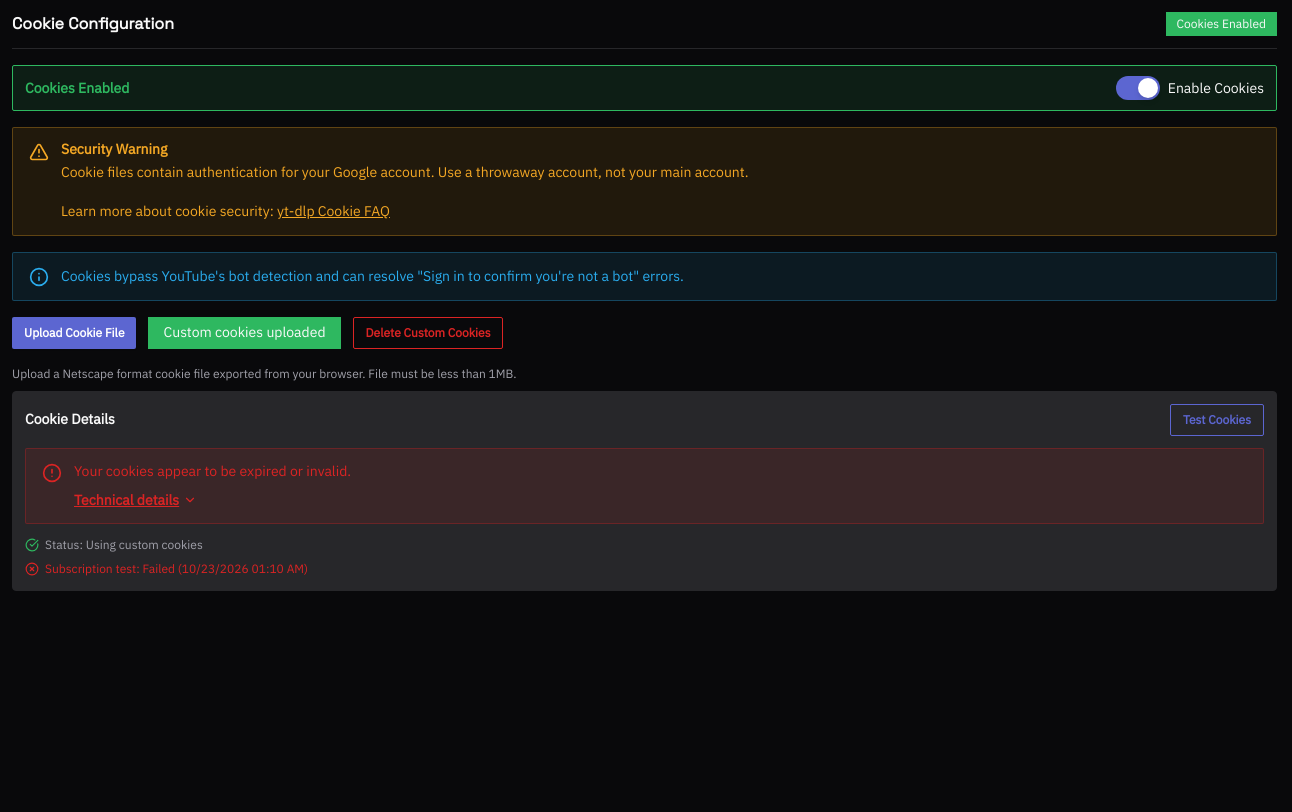
Test: CookieConfigSection › reveals technical details for a failed test only after clicking the toggle
Expected: the text "Failed to resolve url" is not shown
What coordinates should you click on to do the following:
click the button "Technical details"
I would click on:
 (136, 500)
Its box is [74,490,197,510].
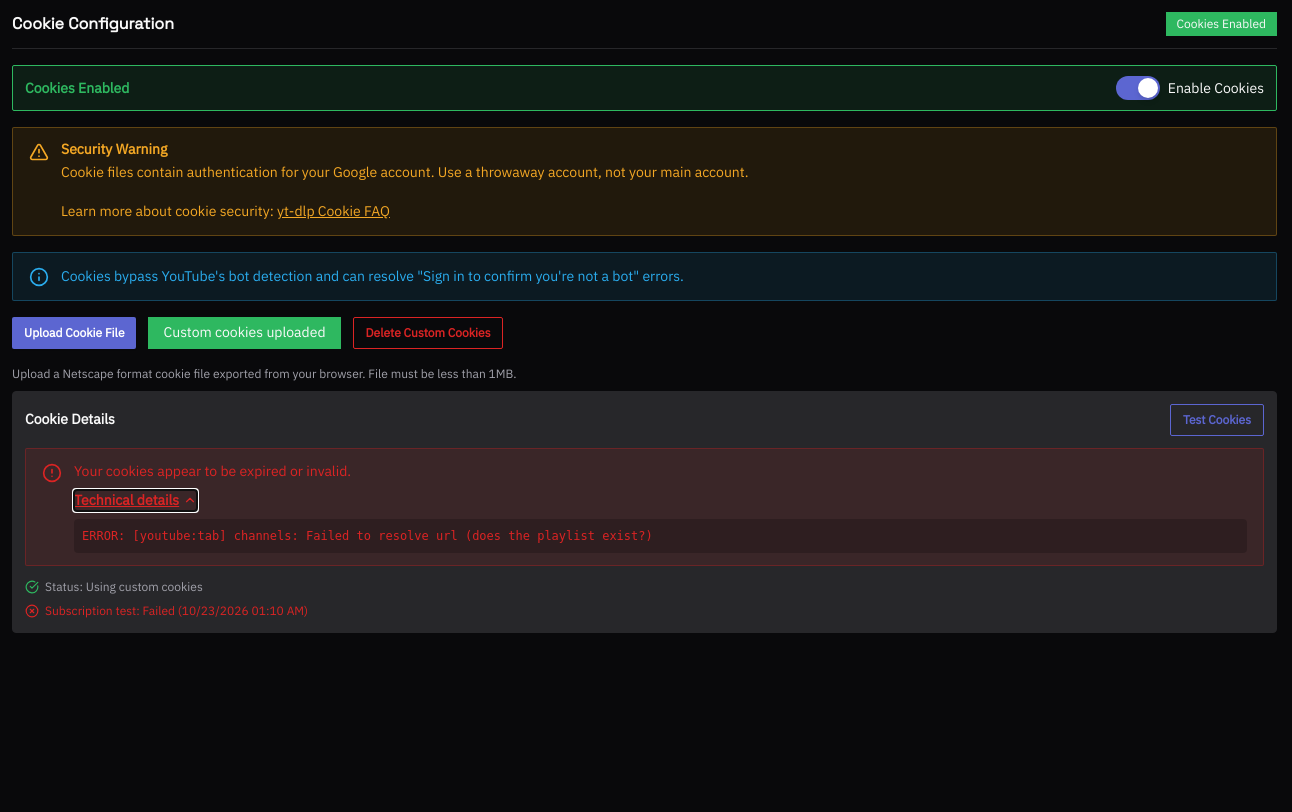
Expected: the text "Failed to resolve url" is shown, [82,528,653,542]
